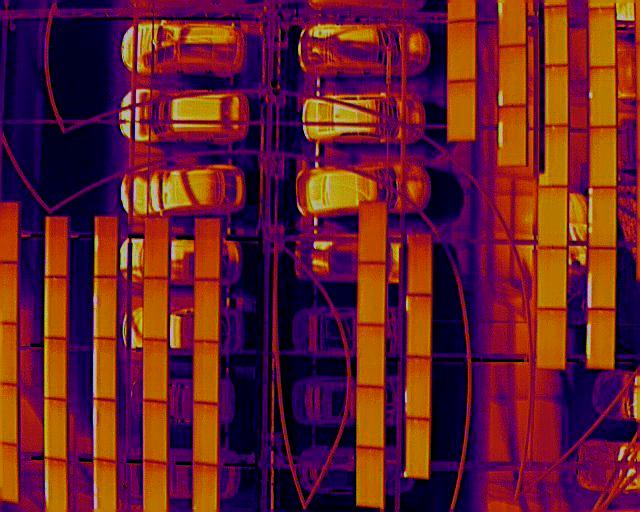Cell: (588, 67, 617, 127)
No-Anomaly: (446, 80, 477, 144), (357, 260, 386, 326), (539, 186, 569, 249), (358, 200, 387, 264), (448, 19, 477, 82), (539, 247, 568, 310), (356, 325, 384, 389), (590, 127, 619, 188), (537, 311, 566, 370), (357, 387, 384, 450), (142, 339, 169, 402), (144, 276, 170, 341), (194, 341, 220, 406), (588, 9, 616, 68), (357, 448, 384, 509), (144, 218, 171, 279), (196, 218, 222, 281), (194, 281, 221, 341), (144, 401, 169, 464), (407, 231, 432, 294), (545, 66, 569, 127), (45, 278, 69, 339), (405, 420, 430, 478), (545, 5, 568, 68), (193, 404, 217, 464), (44, 338, 67, 400), (544, 127, 568, 186), (45, 398, 68, 459), (45, 216, 68, 277), (144, 462, 167, 512), (195, 464, 218, 512)
Unclassified: (588, 186, 617, 249), (588, 249, 618, 308), (586, 310, 616, 369), (499, 106, 527, 169), (404, 356, 432, 419), (499, 44, 526, 108), (406, 294, 433, 357), (93, 217, 118, 280), (93, 278, 118, 340), (93, 339, 117, 400), (94, 400, 115, 463), (45, 459, 68, 512), (94, 460, 114, 512)
